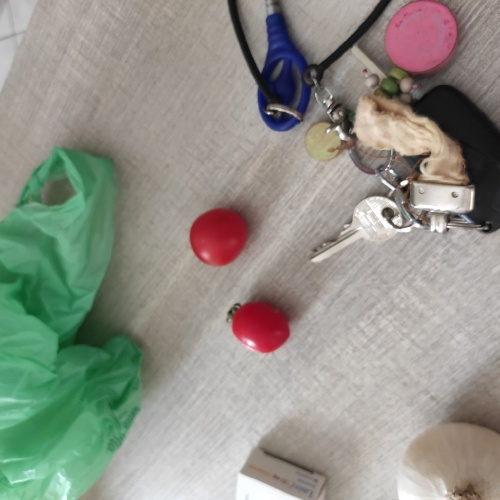pomodoro: (180, 204, 254, 268), (223, 298, 298, 360)
